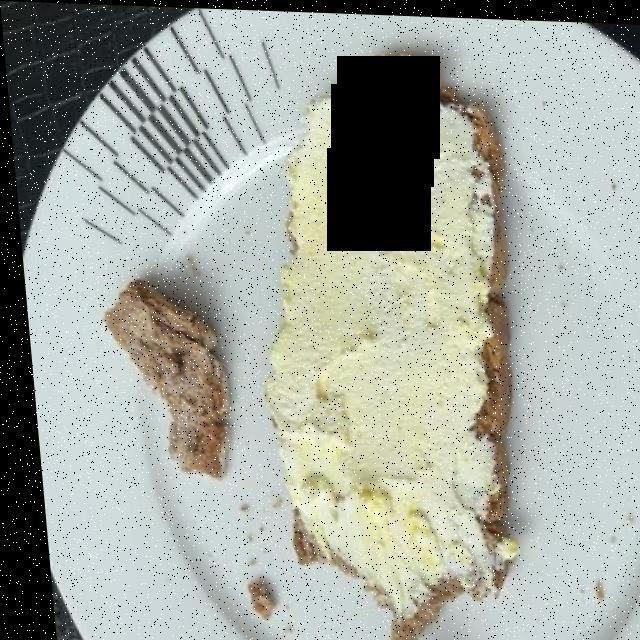bread: (93, 58, 507, 624)
